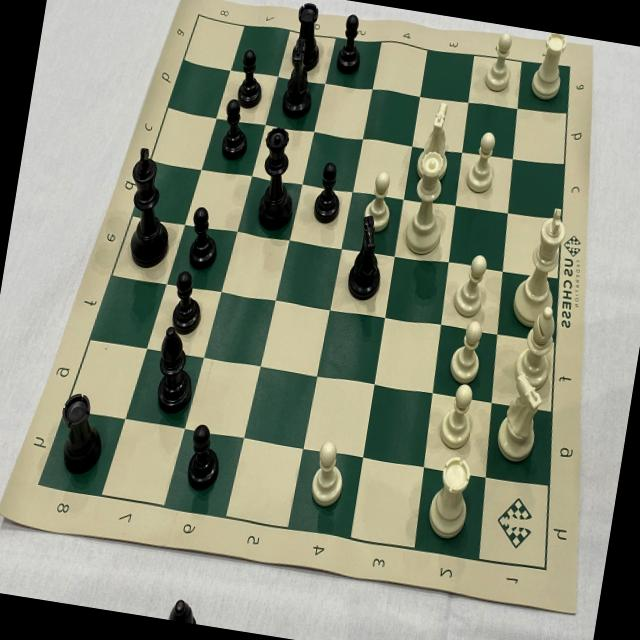black-bishop: (147, 324, 206, 418)
black-king: (116, 138, 186, 274)
black-knight: (341, 211, 392, 308), (276, 34, 324, 125)
black-pawn: (183, 418, 231, 498), (180, 202, 226, 275), (166, 266, 210, 340), (306, 156, 348, 228), (215, 94, 258, 164), (232, 42, 272, 114), (332, 8, 372, 80)
black-queen: (250, 120, 306, 239)
black-rook: (51, 387, 116, 480), (287, 0, 329, 75)
white-bishop: (510, 300, 564, 393)
white-king: (508, 202, 574, 331)
white-knight: (492, 370, 554, 468), (413, 95, 460, 182)
white-pawn: (304, 435, 351, 516), (434, 380, 482, 455), (448, 249, 497, 321), (446, 316, 492, 387), (359, 164, 401, 237), (461, 127, 503, 198), (479, 28, 520, 98)
white-queen: (398, 147, 457, 262)
white-rook: (424, 451, 480, 541), (528, 30, 576, 106)
